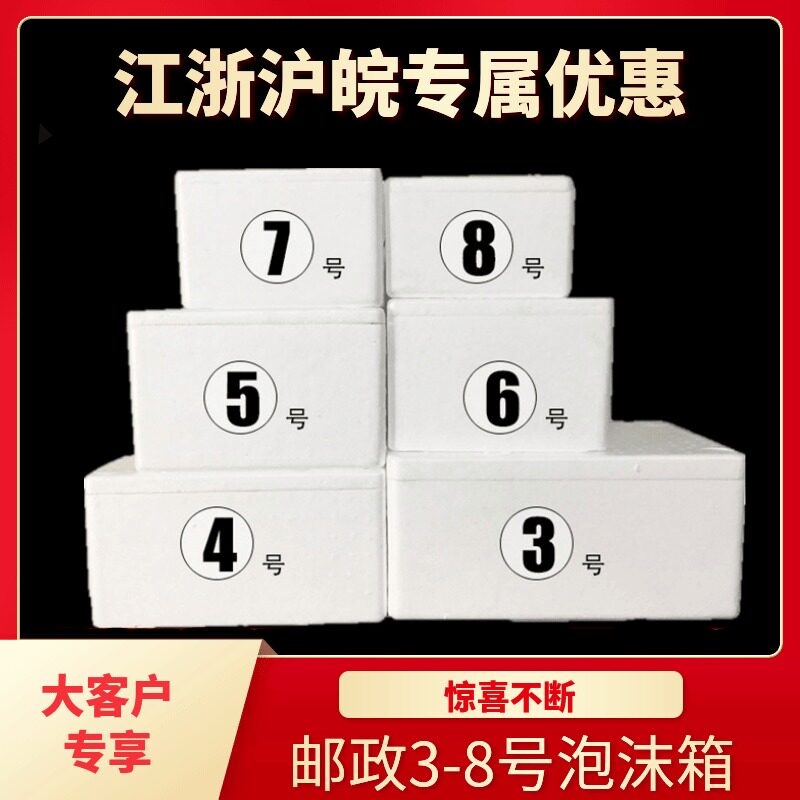泡沫箱: (84, 169, 744, 627)
